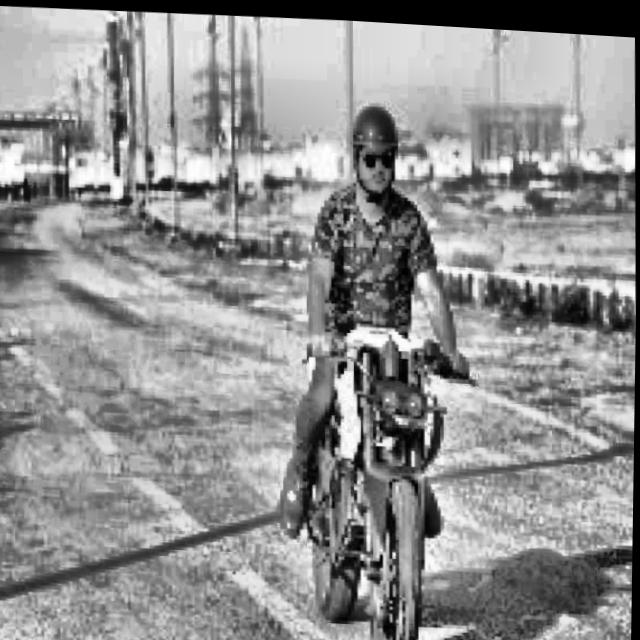motorcycle: (244, 300, 477, 640)
